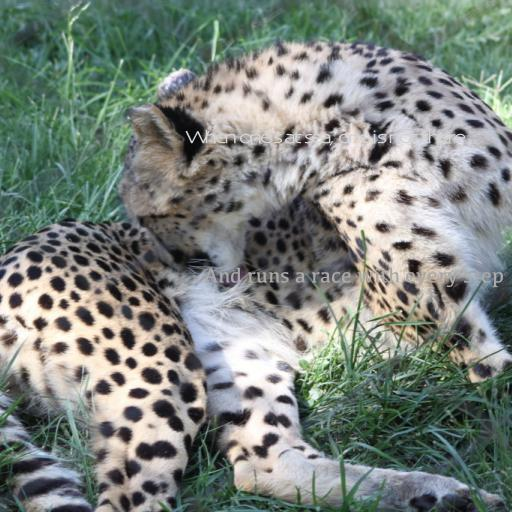Kefa: (204, 267, 504, 288)
Skia: (185, 129, 463, 146)
